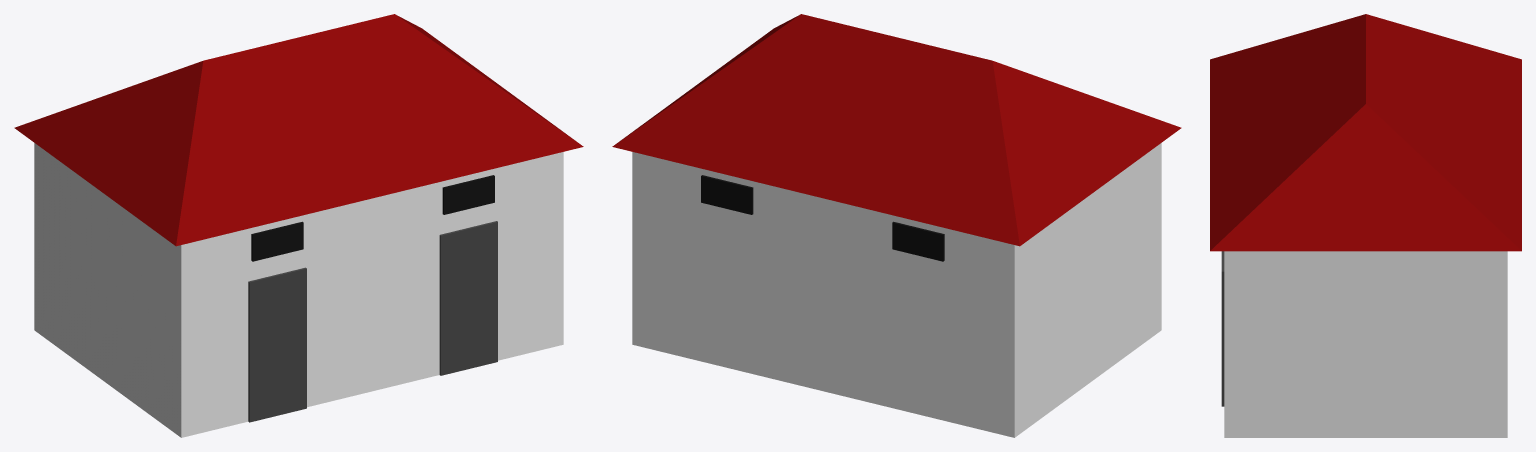
The model's file is banheiro_toilet.glb.
3 views of the same model, side by side, from view 1: azimuth 30°, elevation 25°; view 2: azimuth 150°, elevation 25°; view 3: azimuth 270°, elevation 25° (orthographic). The views are drawn at different scales.
Bounding box in the file's own units: 6.4 × 4.5 × 4.4.
